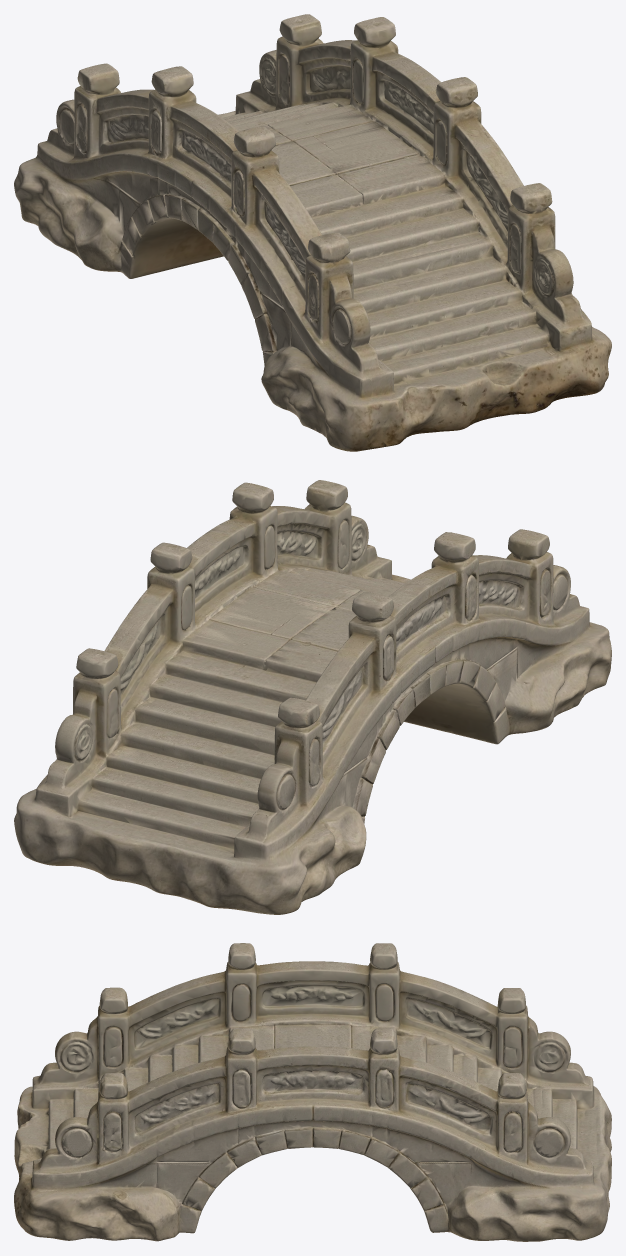
File: bridge.glb
3 renders of one model, top to bottom at view 1: azimuth 30°, elevation 25°; view 2: azimuth 150°, elevation 25°; view 3: azimuth 270°, elevation 25°, orthographic. The views are drawn at different scales.
Visible parts, largest first — view 1: tripo_node_8bc05840-ccb7-46fc-a48c-d61306dd3050; view 2: tripo_node_8bc05840-ccb7-46fc-a48c-d61306dd3050; view 3: tripo_node_8bc05840-ccb7-46fc-a48c-d61306dd3050.
Boxes of the visible parts, left/top/right/bottom form: tripo_node_8bc05840-ccb7-46fc-a48c-d61306dd3050: left=14, top=14, right=611, bottom=451; tripo_node_8bc05840-ccb7-46fc-a48c-d61306dd3050: left=14, top=480, right=611, bottom=914; tripo_node_8bc05840-ccb7-46fc-a48c-d61306dd3050: left=14, top=943, right=611, bottom=1241.
Size of the model in its own units: 0.4888 by 0.3596 by 1.
1 material, 1 textured.
